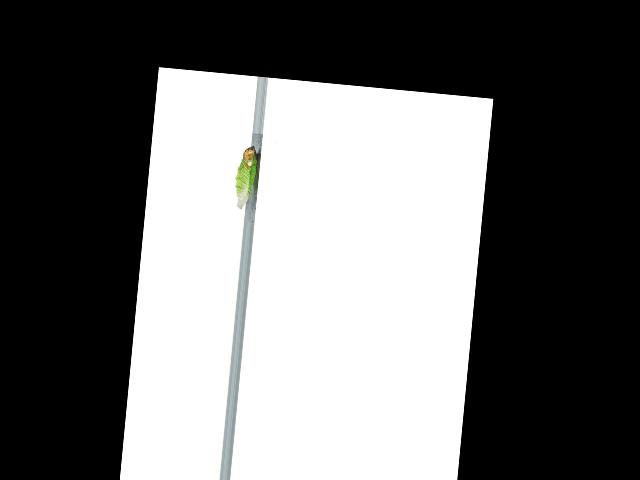lettuce: (230, 141, 262, 211)
